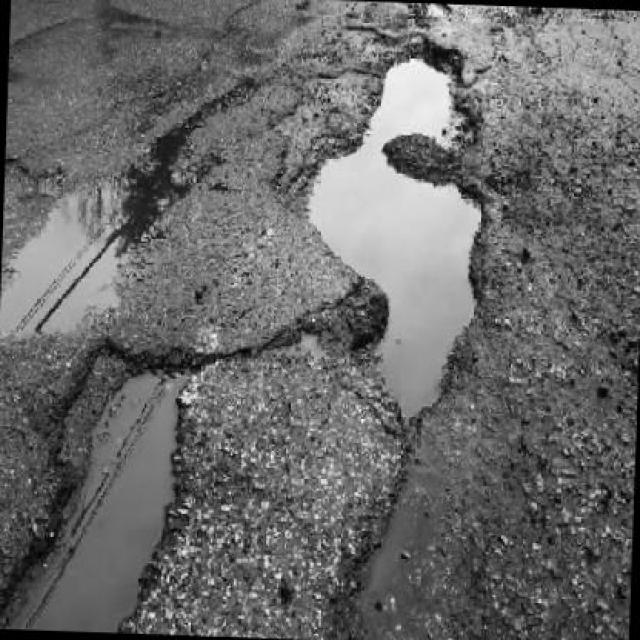pothole: (290, 26, 496, 432), (0, 329, 217, 634)
